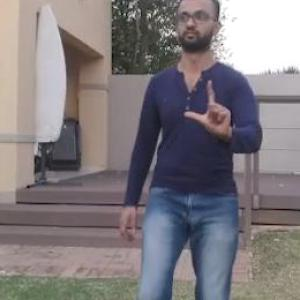land_hand: (181, 74, 239, 144)
